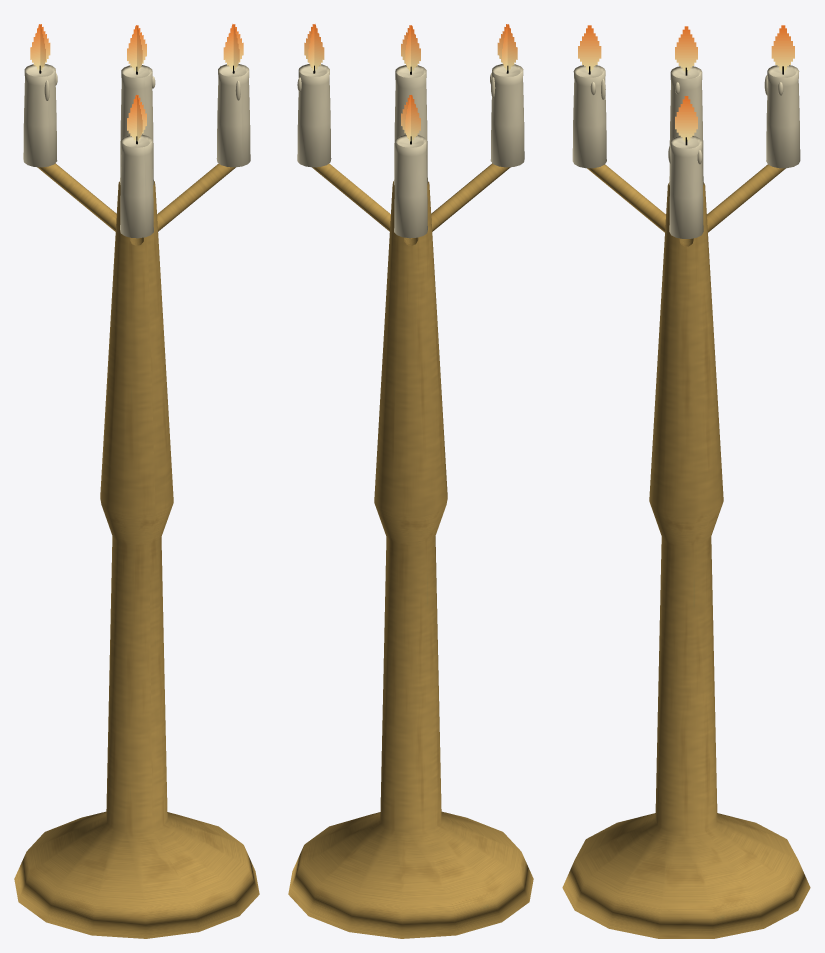
The model's file is candelabra.glb.
3 renders of one model, left to right at view 1: azimuth 30°, elevation 25°; view 2: azimuth 150°, elevation 25°; view 3: azimuth 270°, elevation 25°, orthographic.
Parts seen in each view (by area): view 1: candelabra; view 2: candelabra; view 3: candelabra.
Part boxes in pixels (<box>): candelabra: <box>14,24,259,938</box>; candelabra: <box>288,24,533,938</box>; candelabra: <box>562,25,810,938</box>.
Size of the model in its own units: 0.4019 by 1.54 by 0.4001.
4 materials, 3 textured.
